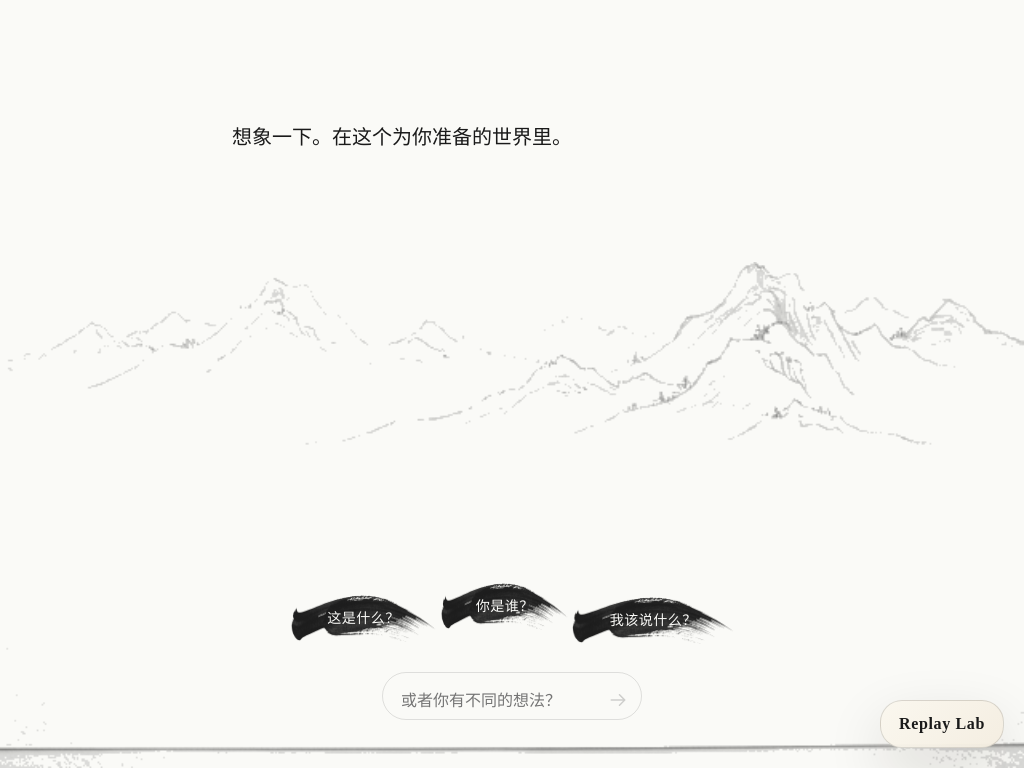
it: App › renders the follow-up scene echo with refreshed bubble suggestions
Expected: the text "想象一下。在这个为你准备的世界里。" is shown, [232,126,572,148]
Type "纽约，新的留学生活。" into the text box at coordinates (512, 696), box [382,672,642,720]
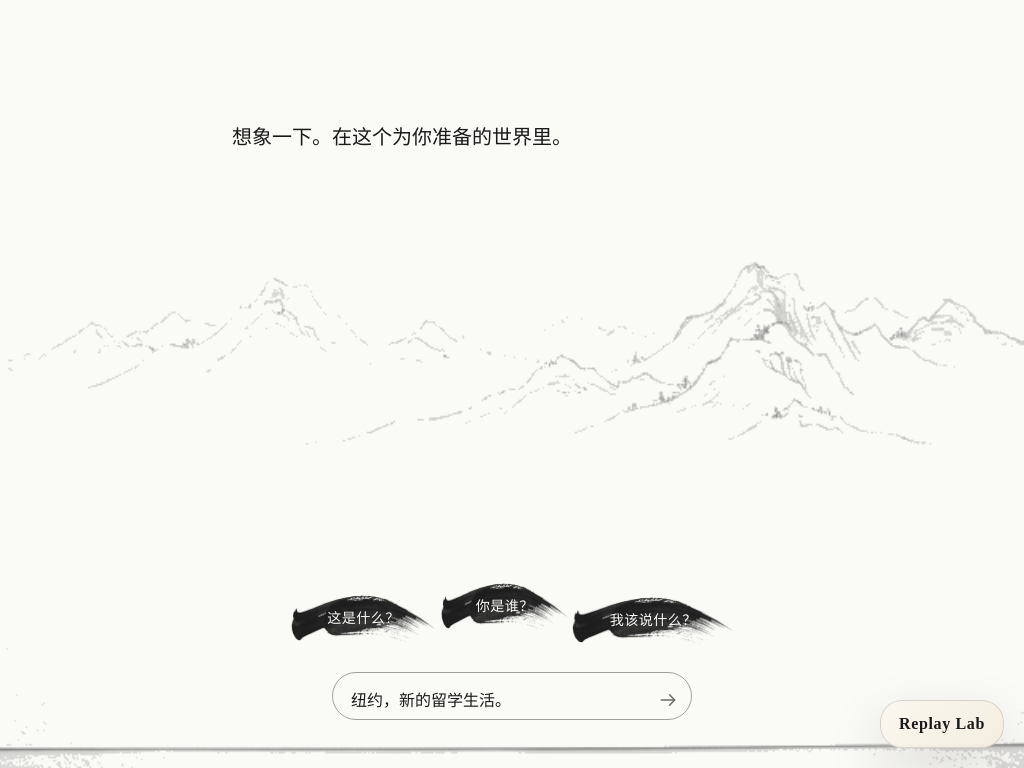
Click the button named "提交" at coordinates (668, 700), box [652,684,684,716]
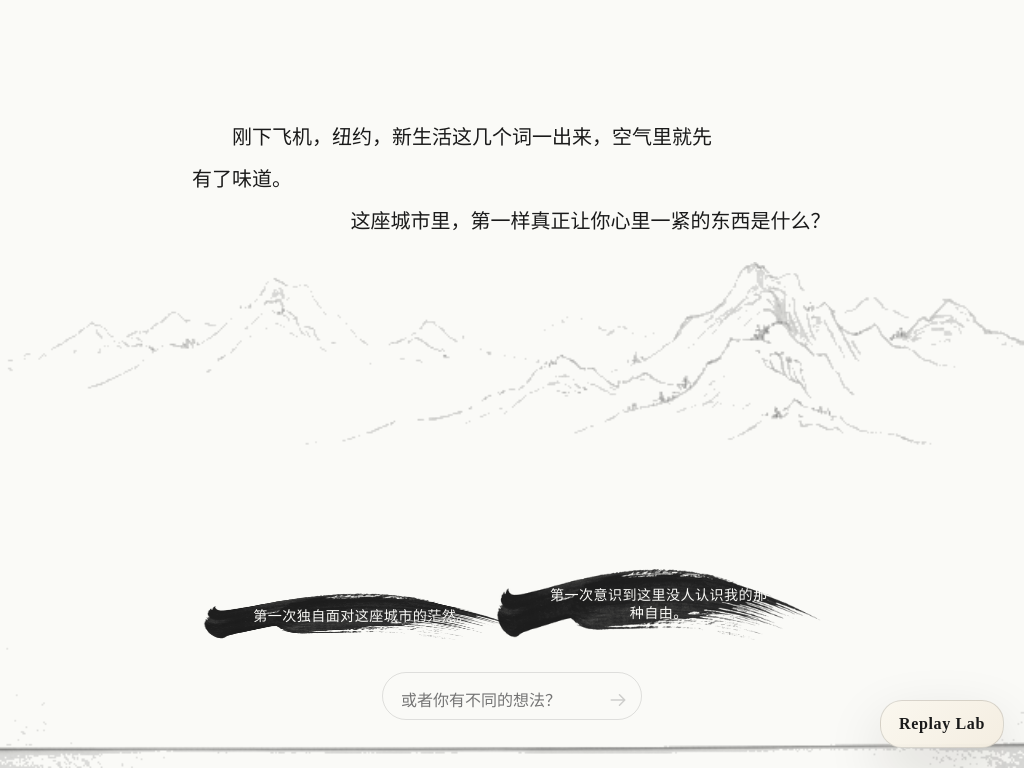
Expected: the text "刚下飞机，纽约，新生活这几个词一出来，空气里就先有了味道。" is shown, [192,116,730,200]
Expected: the text "这座城市里，第一样真正让你心里一紧的东西是什么？" is shown, [350,210,830,232]
Expected: the text "第一次独自面对这座城市的茫然。" is shown, [253,607,471,625]
